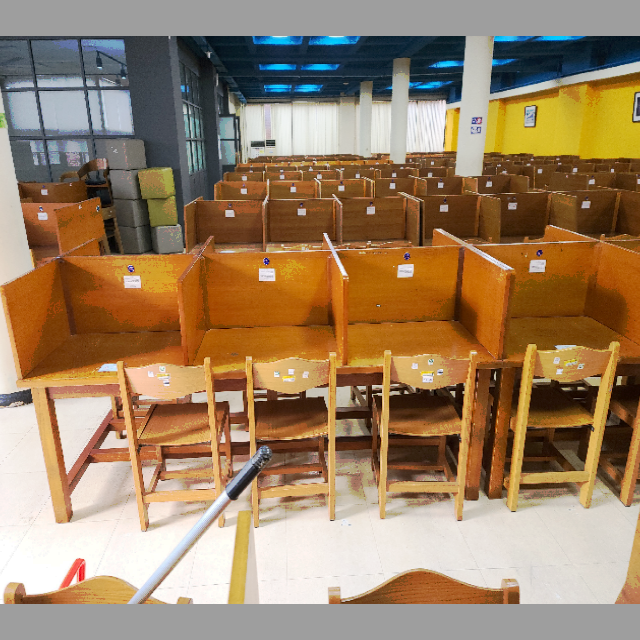empty: (7, 261, 187, 439), (347, 240, 502, 440), (191, 247, 341, 431)
